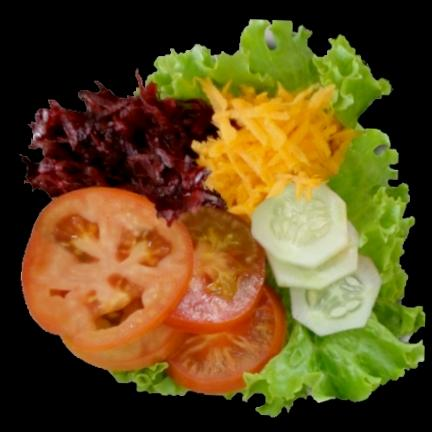beet: (23, 75, 225, 225)
carrot: (193, 78, 356, 216)
cucumber: (253, 184, 380, 335)
salad: (243, 126, 425, 416), (149, 20, 390, 127), (114, 364, 185, 393)
tomato: (23, 188, 286, 393)
